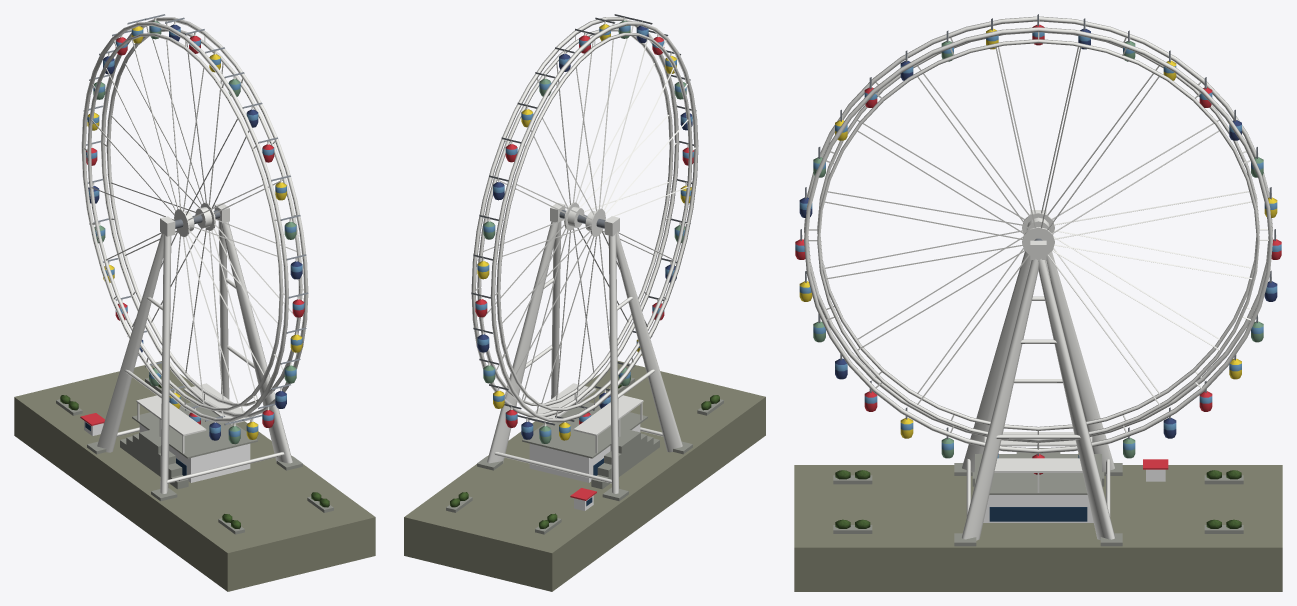
File: top-prebuilt.fbx
The picture shows the model from 3 angles, left to right: view 1: azimuth 30°, elevation 25°; view 2: azimuth 150°, elevation 25°; view 3: azimuth 270°, elevation 25°; orthographic projection. The views are drawn at different scales.
Parts seen in each view (by area): view 1: a1094/0/top-prebuilt; view 2: a1094/0/top-prebuilt; view 3: a1094/0/top-prebuilt.
Part boxes in pixels (x1,y1,x2,y2): a1094/0/top-prebuilt: (14,14,375,591); a1094/0/top-prebuilt: (404,14,765,591); a1094/0/top-prebuilt: (794,14,1282,591).
Bounding box in the file's own units: 40 × 120 × 100.
